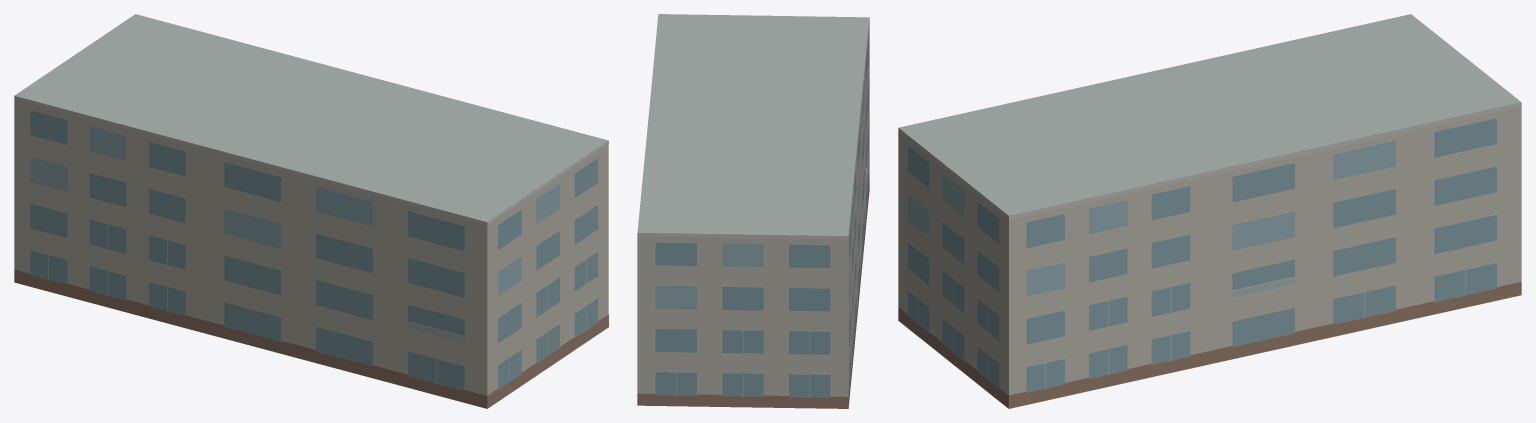
File: survey-upis-32949932.glb
3 renders of one model, left to right at view 1: azimuth 30°, elevation 25°; view 2: azimuth 150°, elevation 25°; view 3: azimuth 270°, elevation 25°, orthographic. The views are drawn at different scales.
Visible parts, largest first — view 1: survey-upis-32949932.tmp; view 2: survey-upis-32949932.tmp; view 3: survey-upis-32949932.tmp.
Boxes of the visible parts, box(x1,y1,x2,y2) form: survey-upis-32949932.tmp: box(14, 14, 608, 408); survey-upis-32949932.tmp: box(637, 14, 869, 408); survey-upis-32949932.tmp: box(898, 14, 1521, 408).
Size of the model in its own units: 27.14 by 12.1 by 35.4.
